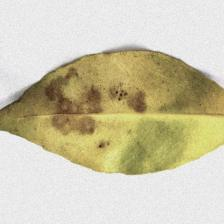black spot: (39, 71, 163, 140)
